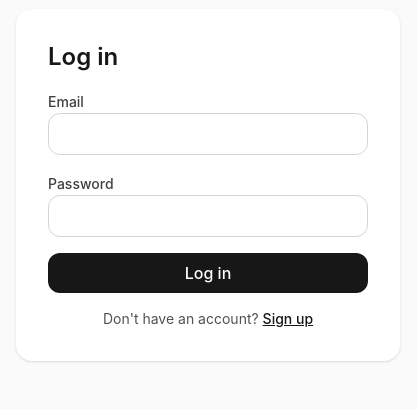
Test: LoginPage › shows a form error when login fails
This screenshot has width=417, height=409.
In the field labelled "Email": (208, 134) [48, 113, 368, 155], type "a@b.co"
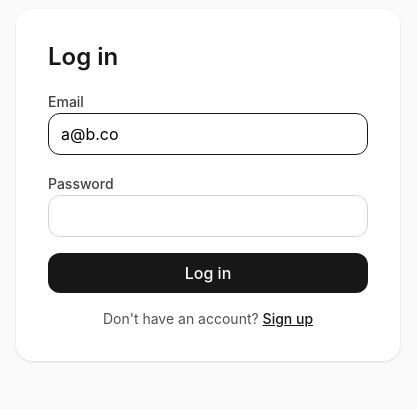
In the password field labelled "Password": (208, 216) [48, 195, 368, 237], type "password1"
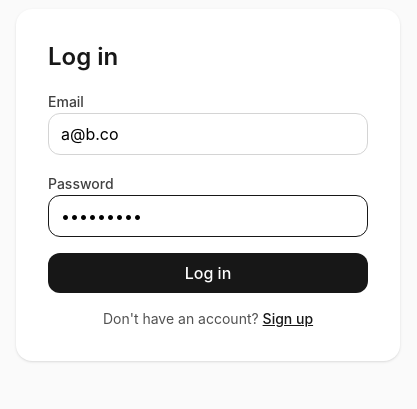
Click the button "Log in": (208, 273) [48, 253, 368, 293]
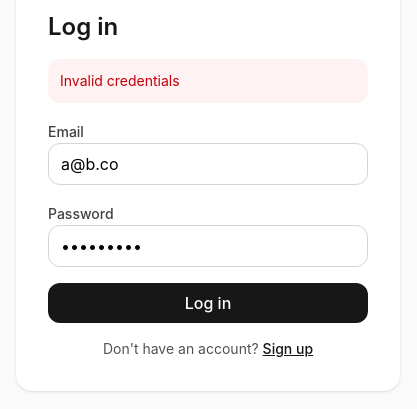
Expected: the message reads "Invalid credentials", [60, 72, 180, 89]
